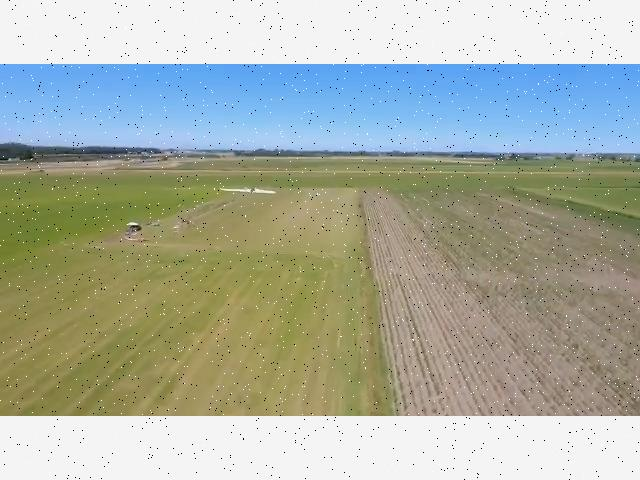Anti-Drone: (205, 177, 293, 207)
